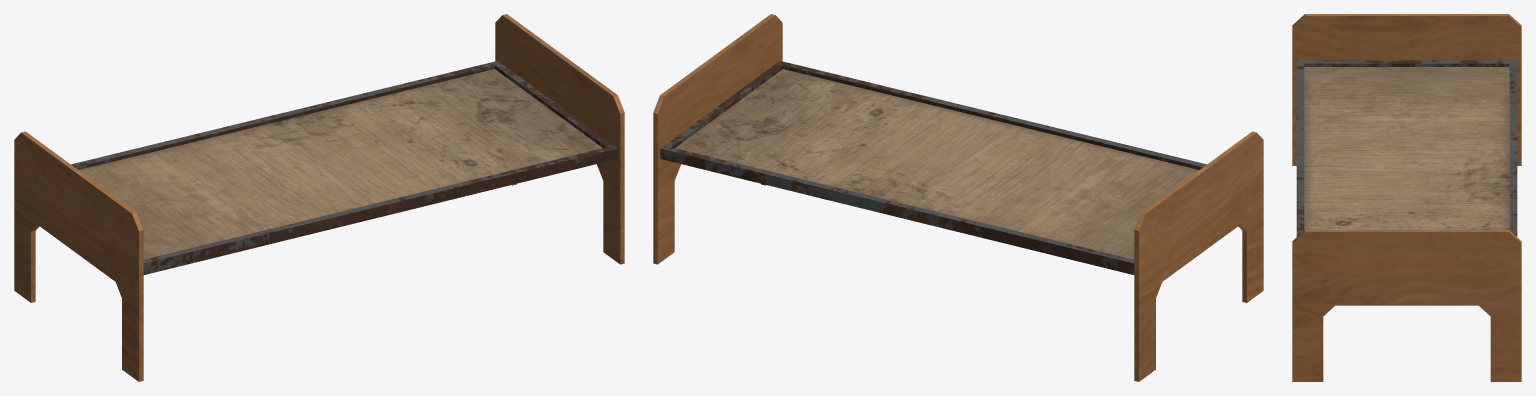
File: bed.FBX
3 views of the same model, side by side, from view 1: azimuth 30°, elevation 25°; view 2: azimuth 150°, elevation 25°; view 3: azimuth 270°, elevation 25° (orthographic). The views are drawn at different scales.
Visible parts, largest first — view 1: bed; view 2: bed; view 3: bed.
Boxes of the visible parts, x1,y1,x2,y2 form: bed: [14, 14, 624, 381]; bed: [653, 14, 1263, 381]; bed: [1292, 14, 1521, 381].
Size of the model in its own units: 92.38 by 29.64 by 41.09.
